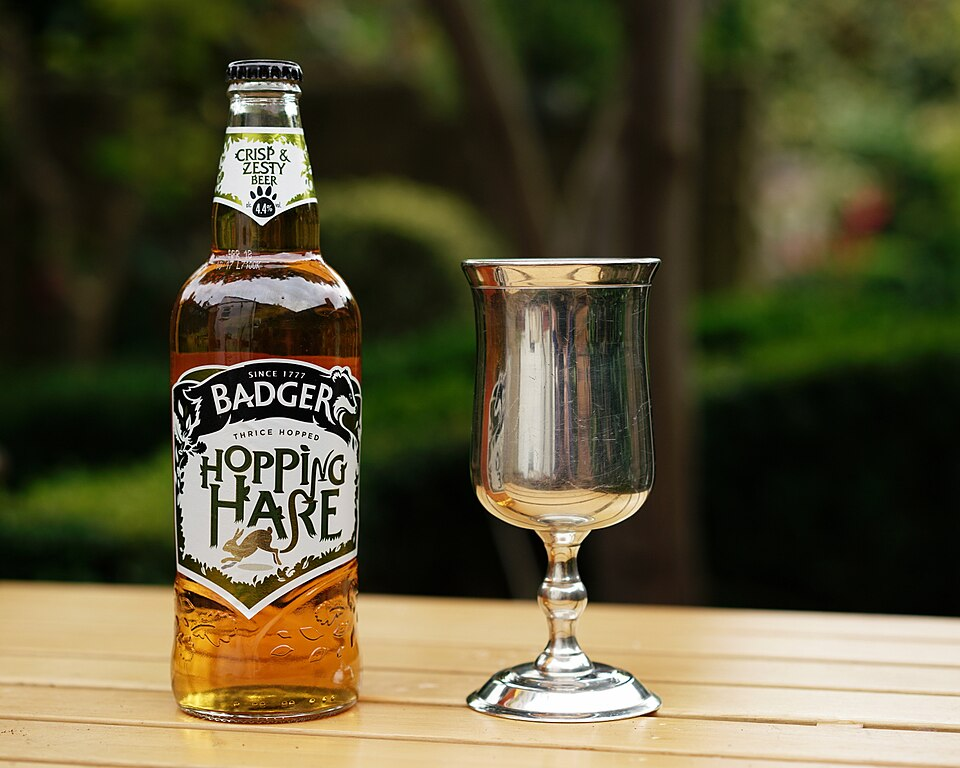beer-bottle: (162, 54, 372, 736)
